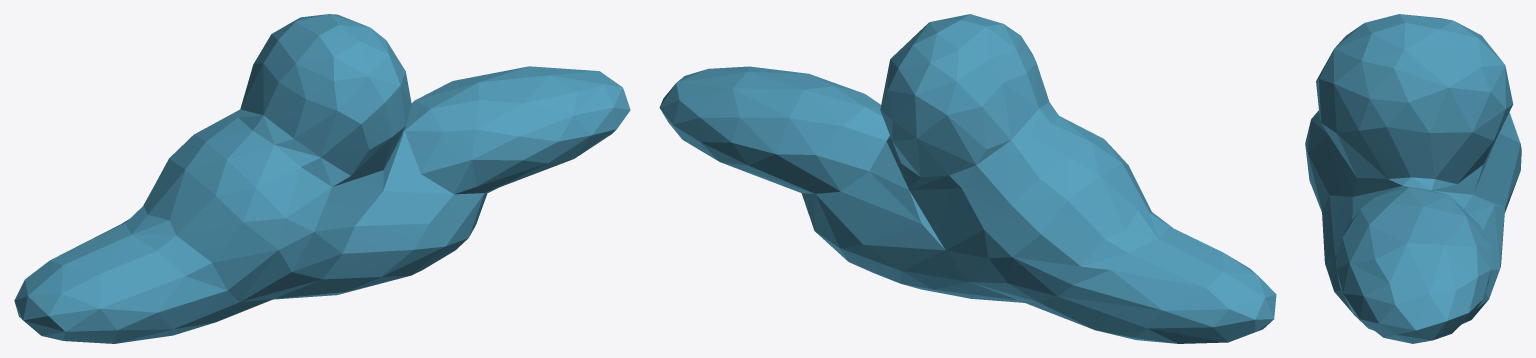
The model's file is oval_cloud_7.fbx.
The picture shows the model from 3 angles, left to right: view 1: azimuth 30°, elevation 25°; view 2: azimuth 150°, elevation 25°; view 3: azimuth 270°, elevation 25°; orthographic projection. The views are drawn at different scales.
Parts seen in each view (by area): view 1: cloud_67; view 2: cloud_67; view 3: cloud_67.
Part boxes in pixels (x1,y1,x2,y2): cloud_67: [14, 14, 630, 343]; cloud_67: [659, 14, 1276, 343]; cloud_67: [1305, 14, 1521, 343].
Bounding box in the file's own units: 624 × 257 × 181.
